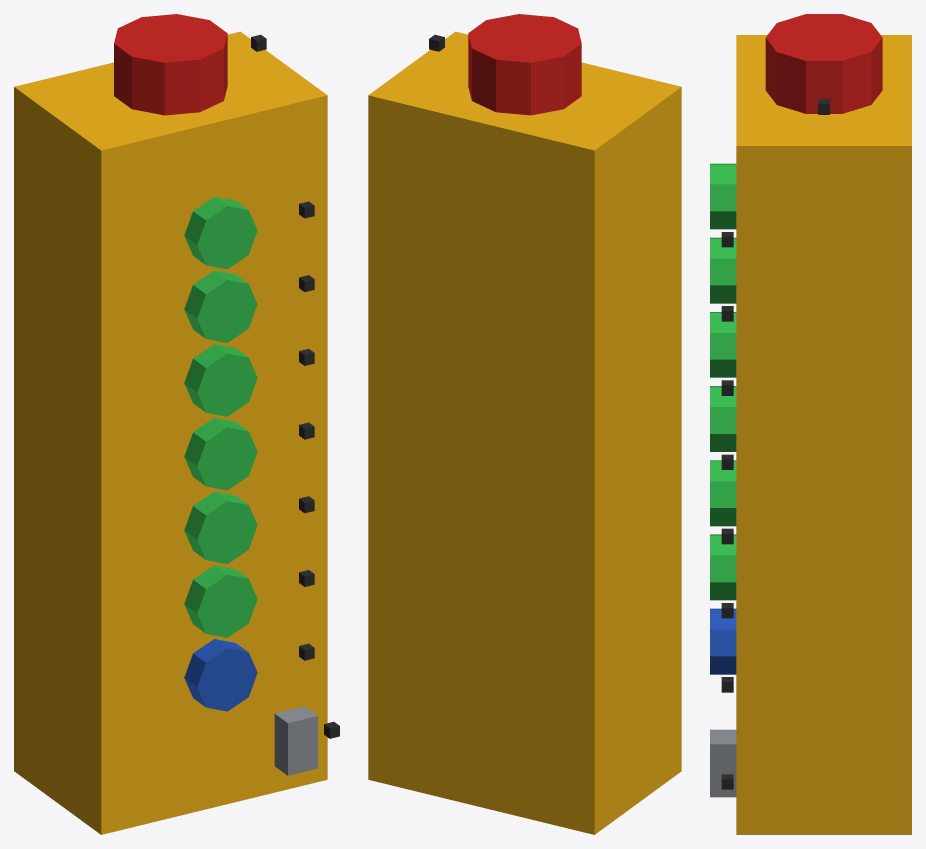
The model's file is ENV_CraneRemote.fbx.
3 renders of one model, left to right at view 1: azimuth 30°, elevation 25°; view 2: azimuth 150°, elevation 25°; view 3: azimuth 270°, elevation 25°, orthographic.
Visible parts, largest first — view 1: ENV_CraneRemote, Btn_EStop, Btn_East, Btn_Up, Btn_Down, Btn_West, Btn_North, Btn_South, Btn_Speed2, Key_Power; view 2: ENV_CraneRemote, Btn_EStop; view 3: ENV_CraneRemote, Btn_EStop, Btn_Up, Key_Power, Btn_North, Btn_South, Btn_Down, Btn_Speed2, Btn_East, Btn_West.
Part boxes in pixels (x1,y1,x2,y2): ENV_CraneRemote: [14, 31, 327, 834]; Btn_EStop: [114, 14, 227, 115]; Btn_East: [184, 344, 257, 416]; Btn_Up: [184, 196, 257, 269]; Btn_Down: [184, 270, 257, 342]; Btn_West: [184, 418, 257, 490]; Btn_North: [184, 491, 257, 564]; Btn_South: [184, 565, 257, 637]; Btn_Speed2: [184, 639, 257, 711]; Key_Power: [274, 706, 317, 775]; ENV_CraneRemote: [368, 31, 681, 834]; Btn_EStop: [468, 14, 581, 115]; ENV_CraneRemote: [736, 35, 911, 834]; Btn_EStop: [765, 14, 882, 113]; Btn_Up: [710, 163, 736, 229]; Key_Power: [710, 729, 736, 797]; Btn_North: [710, 460, 736, 526]; Btn_South: [710, 534, 736, 600]; Btn_Down: [710, 237, 736, 303]; Btn_Speed2: [710, 608, 736, 674]; Btn_East: [710, 312, 736, 377]; Btn_West: [710, 386, 736, 451].
Bounding box in the file's own units: 0.092 × 0.28 × 0.069.
Materials: 3 (3 with a texture image).
